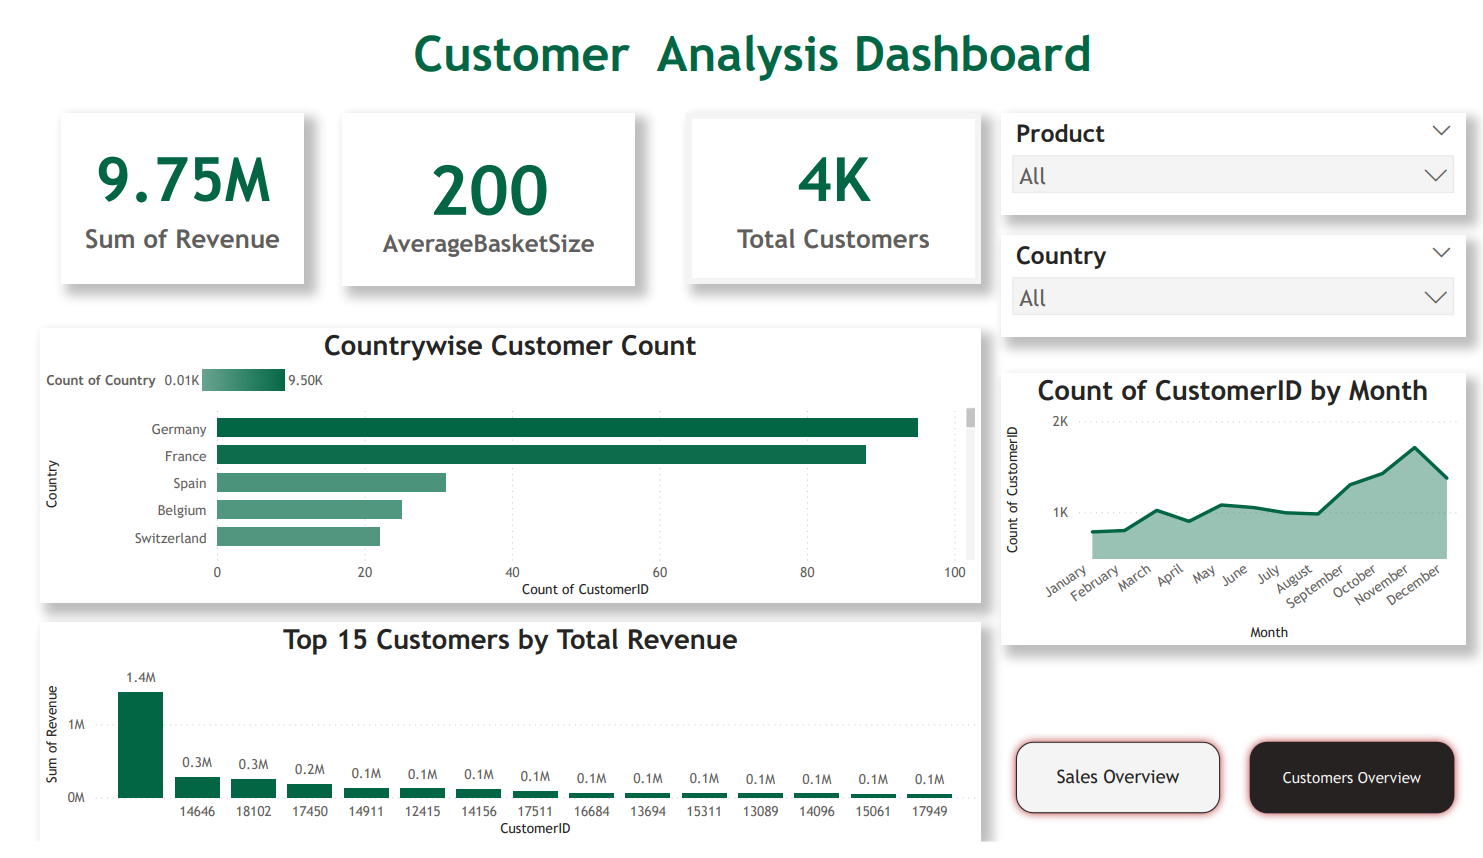

Layout of this report page (visuals, bound fields, positions):
{"tool":"powerbi","page":{"name":"Customers Overview","canvas":[1280,720],"ordinal":1},"visuals":[{"type":"textbox","box":[0,0,1279.7,65.9],"z":0},{"type":"cardVisual","fields":{"Data":["Sum(retail.Revenue)"]},"box":[33.8,81.9,213.6,149.5],"z":1000},{"type":"cardVisual","box":[295.4,81.9,226,149.5],"z":2000},{"type":"cardVisual","fields":{"Data":["retail.# Customers"]},"box":[582,81.9,258.1,149.5],"z":3000},{"type":"barChart","title":"Countrywise Customer Count","fields":{"Category":["retail.Country"],"Y":["Count(retail.CustomerID)"]},"box":[16,270.5,824,240.3],"z":4000},{"type":"areaChart","fields":{"Category":["retail.InvoiceDate.Variation.Date Hierarchy.Month"],"Y":["Count(retail.CustomerID)"]},"box":[857.9,309.7,407.6,238.5],"z":5000},{"type":"slicer","fields":{"Values":["retail.Country"]},"box":[857.9,188.7,407.6,89],"z":6000},{"type":"slicer","fields":{"Values":["retail.Description"]},"box":[857.9,81.9,407.6,89],"z":8000},{"type":"columnChart","title":"Top 15 Customers by Total Revenue","fields":{"Y":["Sum(retail.Revenue)"],"Category":["retail.CustomerID"]},"box":[16,527.8,824,192.2],"z":9000},{"type":"pageNavigator","box":[863.2,624.7,400.5,78.3],"z":9001},{"type":"card","fields":{"Values":["retail.AverageBasketSize"]},"box":[281.2,81.9,256.3,151.3],"z":9002}]}

Visuals, with their boxes on the page's 1280x720 design canvas (x1, y1, x2, y2). These are canvas units, not pixel positions in the 1483x858 screenshot, which may show the page scaled, cropped or inside an application window:
textbox: locate(0, 0, 1280, 66)
cardVisual - Sum(retail.Revenue): locate(34, 82, 247, 231)
cardVisual: locate(295, 82, 521, 231)
cardVisual - retail.# Customers: locate(582, 82, 840, 231)
"Countrywise Customer Count" barChart: locate(16, 270, 840, 511)
areaChart - retail.InvoiceDate.Variation.Date Hierarchy.Month x Count(retail.CustomerID): locate(858, 310, 1266, 548)
slicer - retail.Country: locate(858, 189, 1266, 278)
slicer - retail.Description: locate(858, 82, 1266, 171)
"Top 15 Customers by Total Revenue" columnChart: locate(16, 528, 840, 720)
pageNavigator: locate(863, 625, 1264, 703)
card - retail.AverageBasketSize: locate(281, 82, 538, 233)
